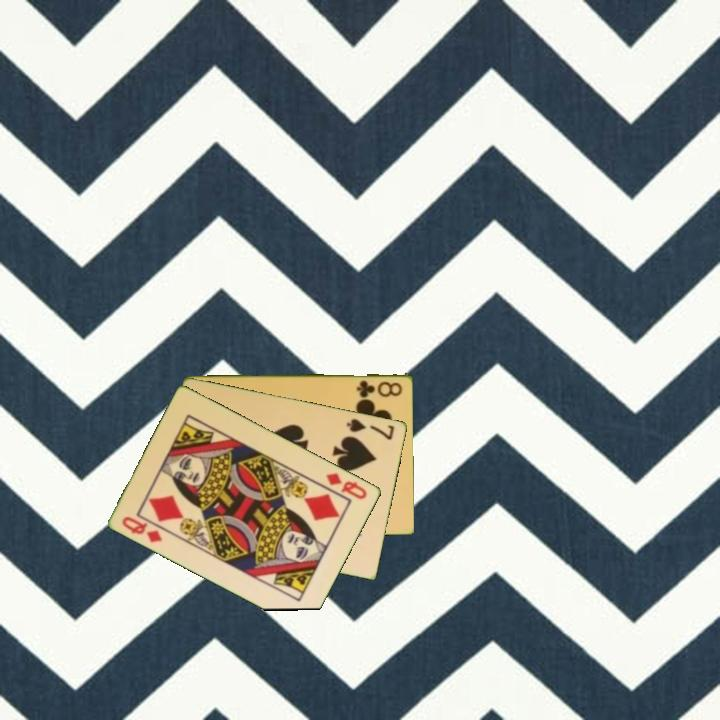7s: (343, 415, 398, 443)
8c: (354, 376, 405, 399)
Qd: (119, 512, 166, 546), (323, 469, 370, 502)
